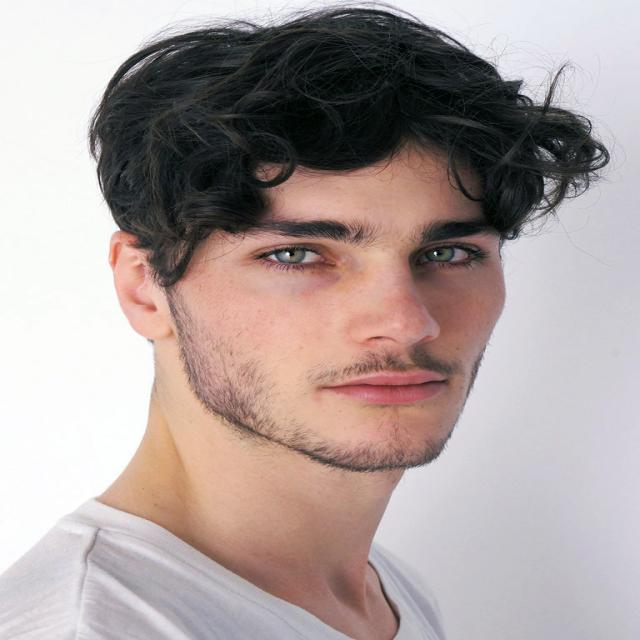front: (188, 191, 529, 436)
